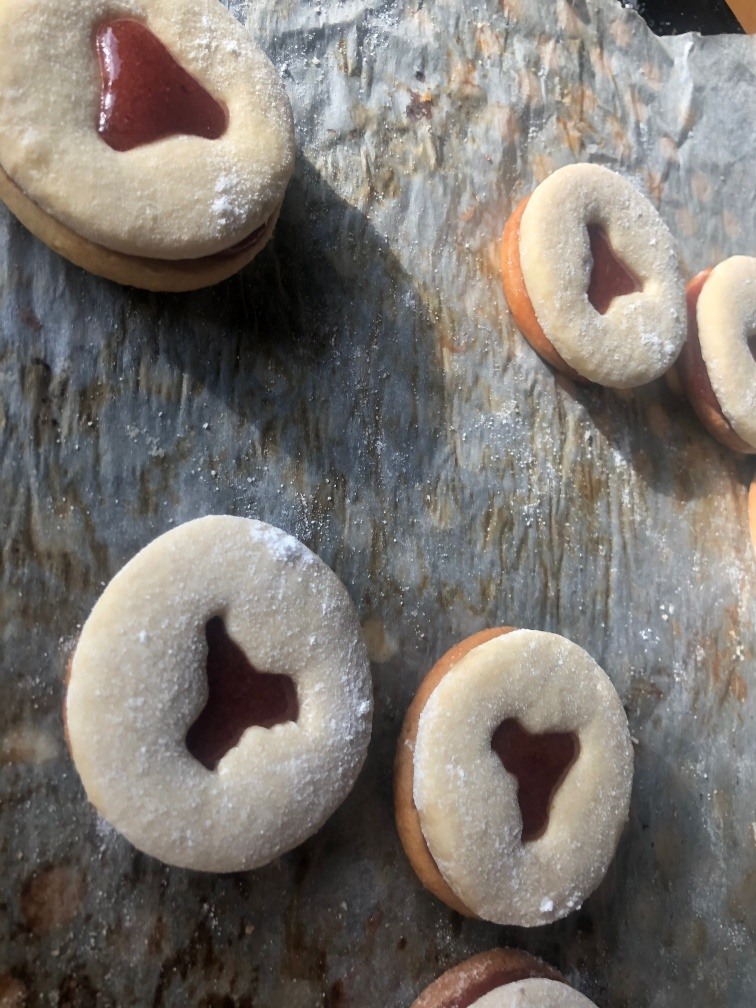christmas shortbread with jam: (60, 501, 365, 894), (5, 1, 290, 304), (387, 613, 631, 928), (499, 161, 687, 399)
